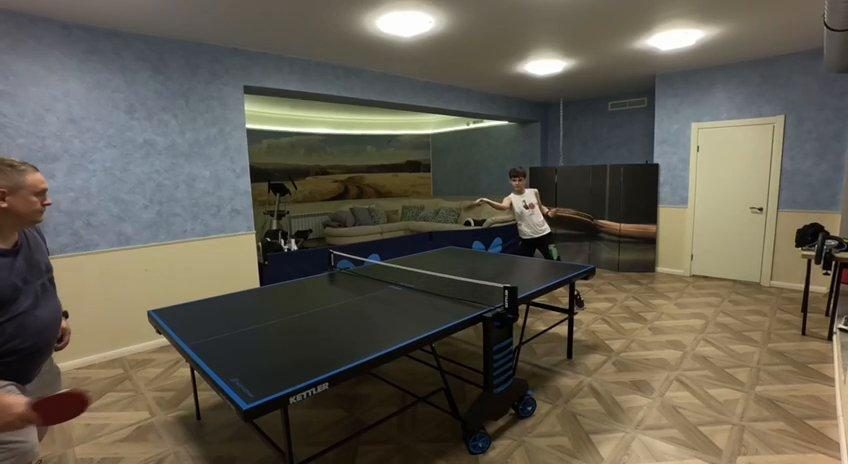Net: (327, 251, 515, 308)
Player1: (491, 169, 558, 259)
Player2: (0, 157, 88, 463)
Table: (149, 247, 594, 409)
